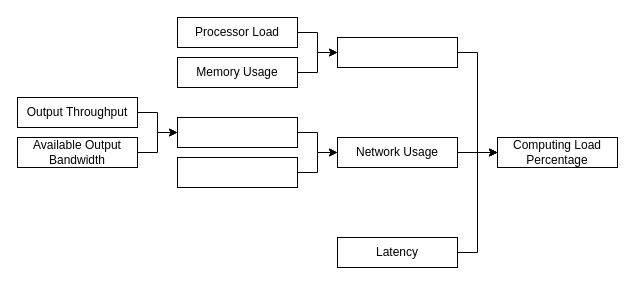
Image size: 635x285. Some labels were removed from this diagram. The shapes that lost their labels are listed below. From the top down, each one's centre as x and y in pixels, then its label:
At (x=397, y=52): "Hardware Resources".
At (x=237, y=132): "Output Congestion".
At (x=237, y=172): "Input Throughput".
